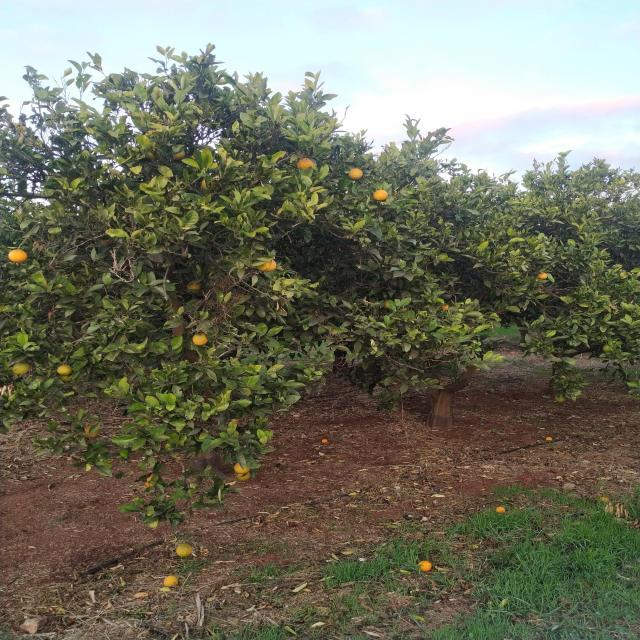Jeruk Belum Matang: (12, 362, 30, 374), (236, 471, 250, 481), (384, 300, 390, 309)
Jeruk Sudah Matang: (8, 249, 28, 263), (296, 158, 316, 172), (260, 259, 278, 273), (176, 544, 193, 558), (193, 333, 208, 346), (417, 560, 433, 572), (84, 426, 100, 437), (57, 364, 71, 376), (170, 149, 186, 159), (373, 190, 388, 200), (201, 180, 216, 190), (350, 168, 362, 179), (145, 476, 156, 486), (188, 281, 200, 290), (538, 272, 548, 280), (441, 304, 449, 310)
